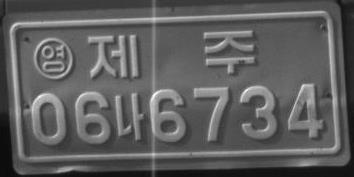0: (30, 91, 67, 147)
3: (239, 84, 277, 140)
4: (286, 82, 325, 139)
6: (148, 87, 187, 143), (73, 90, 112, 145)
7: (192, 85, 231, 142)
나: (113, 92, 144, 142)
영: (33, 36, 73, 79)
제주_D: (86, 28, 256, 79)
